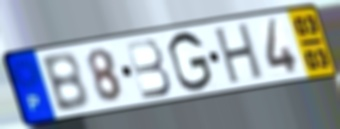4: (264, 17, 301, 77)
8: (86, 46, 125, 105)
B: (39, 50, 92, 115), (122, 36, 173, 101)
G: (166, 30, 215, 94)
H: (213, 21, 266, 87)
